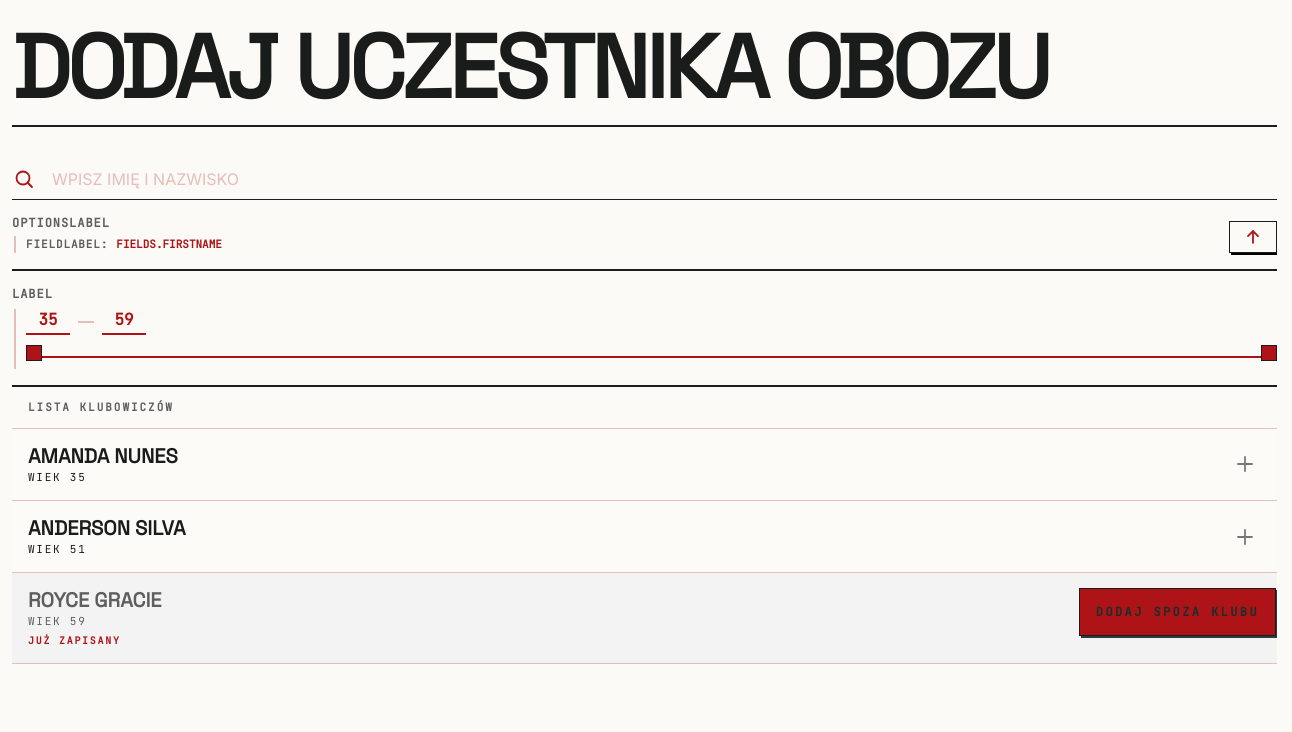
Test case: CampClubMembersListView › lets a coach filter the list with the shared member controls
The image size is (1292, 732).
Type "anderson" into the field with id "camp-participant-search" at x=664, y=179, box [52, 167, 1277, 191]
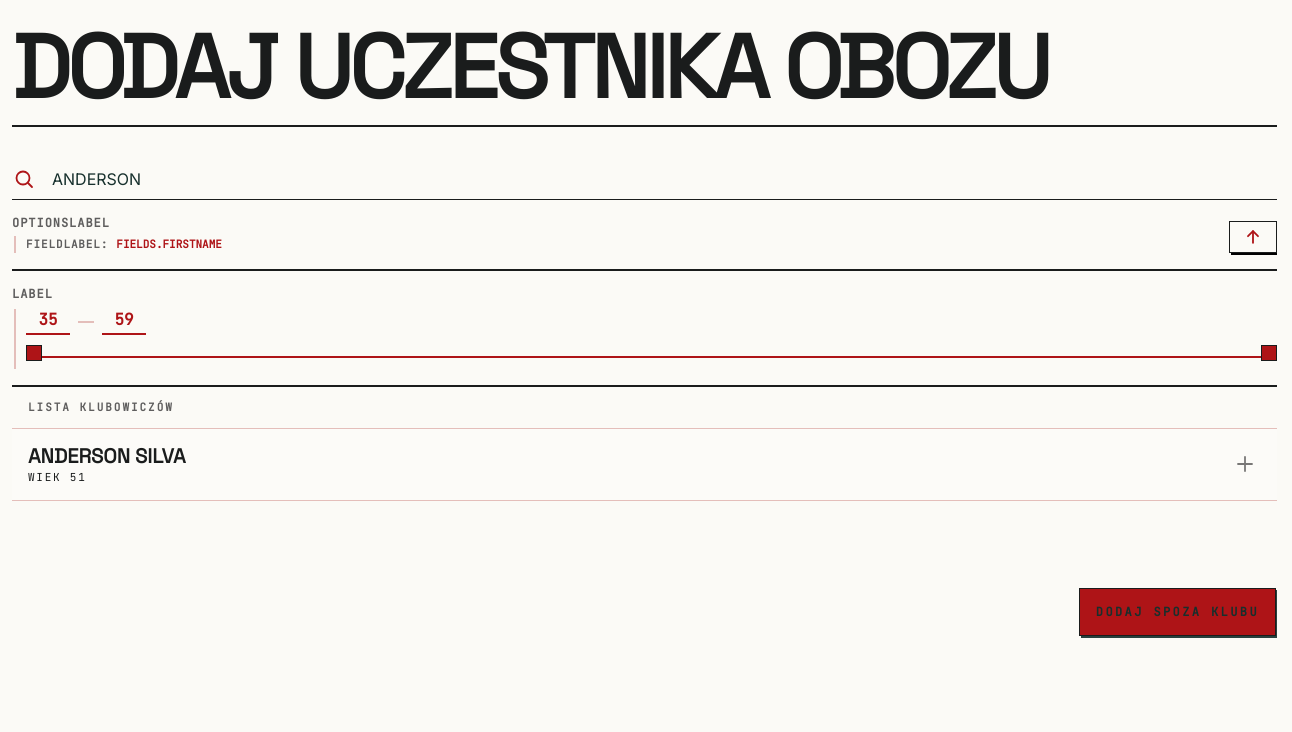
Expected: the text "Anderson Silva" is shown, [28, 443, 186, 469]
Expected: the text "Amanda Nunes" is gone
Expected: the text "Royce Gracie" is gone
